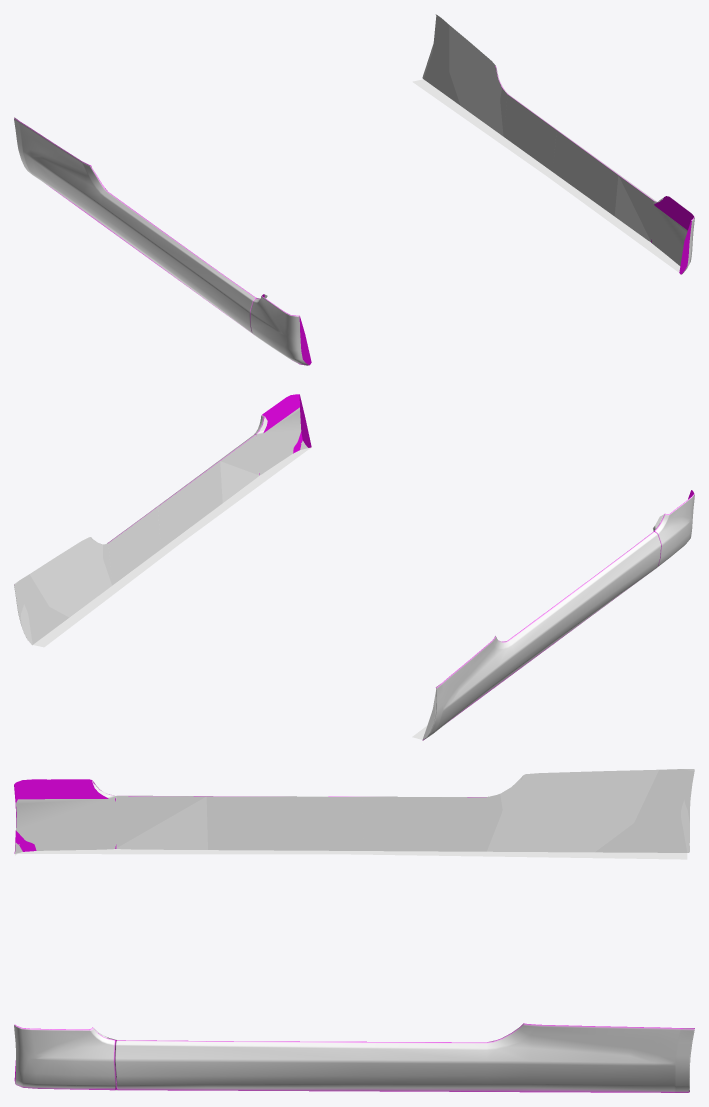
The model's file is Car_Nissan_SkylineGTRVspecR34_1999_Skirts_SetA_AltA.fbx.
3 renders of one model, top to bottom at view 1: azimuth 30°, elevation 25°; view 2: azimuth 150°, elevation 25°; view 3: azimuth 270°, elevation 25°, orthographic. The views are drawn at different scales.
Visible parts, largest first — view 1: Skirts 6; view 2: Skirts 6; view 3: Skirts 6.
Part boxes in pixels (x1,y1,x2,y2): Skirts 6: (14, 14, 694, 365); Skirts 6: (14, 394, 694, 740); Skirts 6: (14, 769, 694, 1092).
Size of the model in its own units: 1.73 by 0.231 by 1.92.
